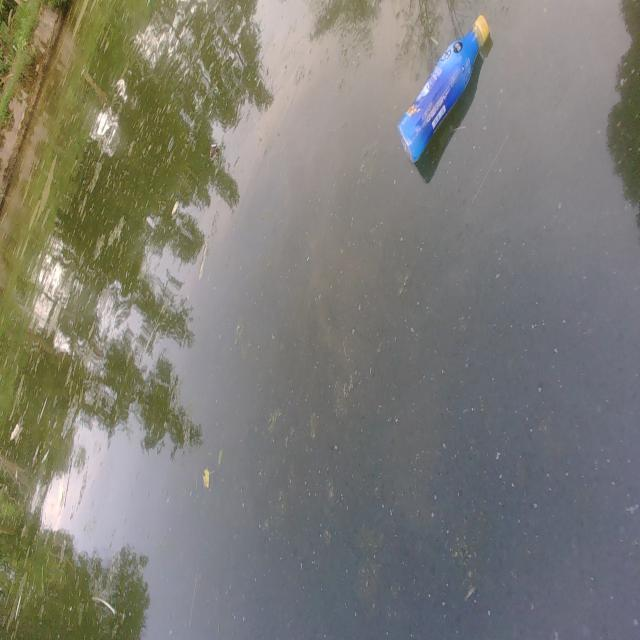garbage: (397, 13, 493, 164)
